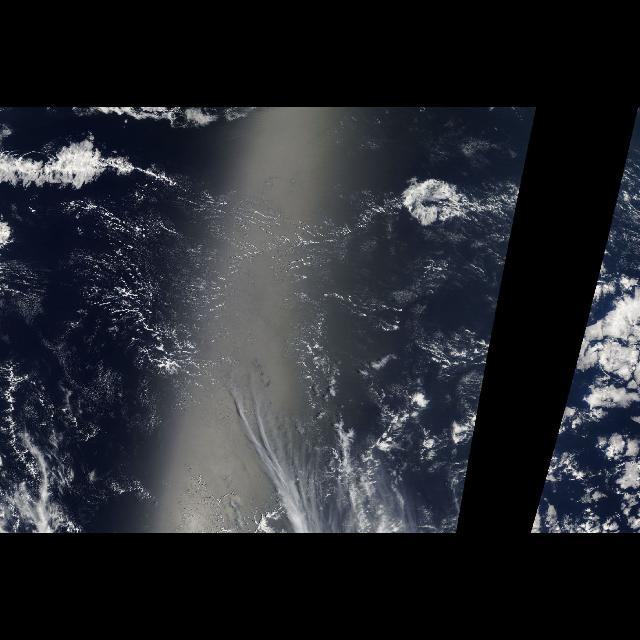Fish: (6, 133, 170, 190)
Flower: (570, 233, 638, 529)
Sugar: (14, 188, 422, 422)
